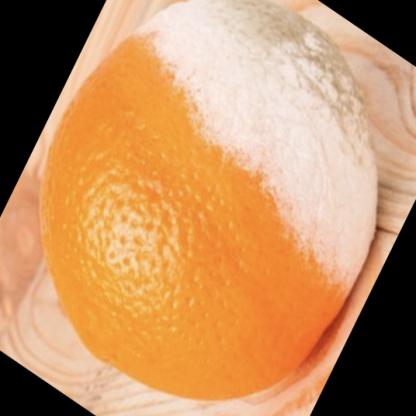rotten: (42, 1, 379, 401)
